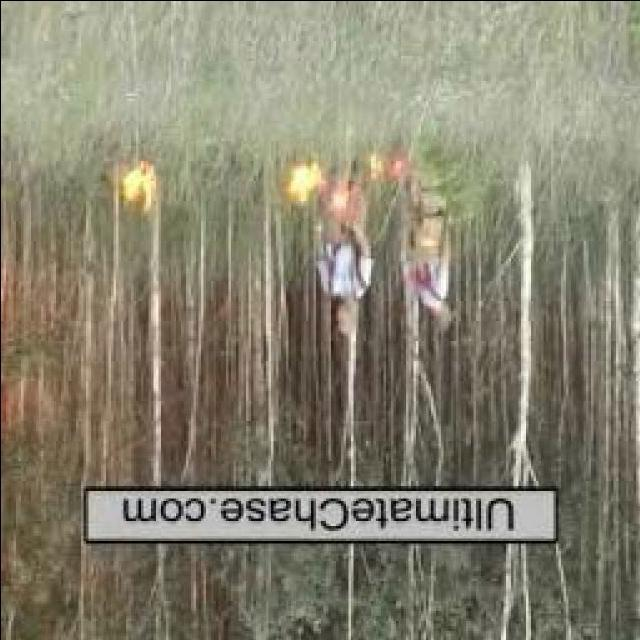Fire: (117, 152, 155, 212), (282, 158, 322, 204), (367, 148, 402, 186), (328, 185, 350, 212)
